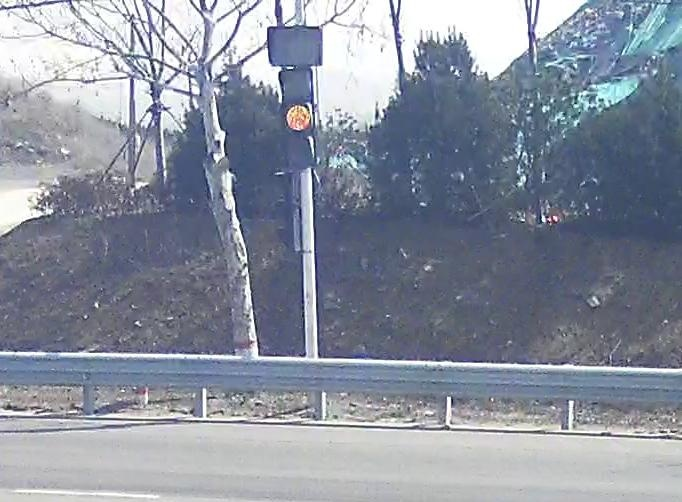yellow: (281, 105, 317, 133)
